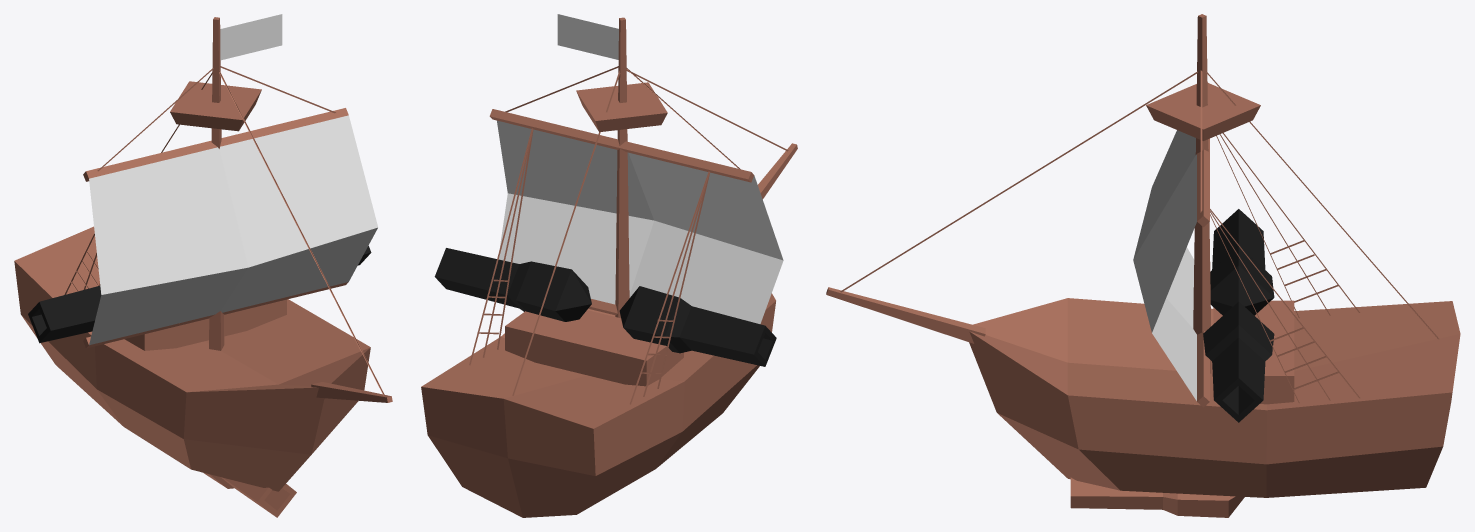
File: ship.gltf
3 views of the same model, side by side, from view 1: azimuth 30°, elevation 25°; view 2: azimuth 150°, elevation 25°; view 3: azimuth 270°, elevation 25° (orthographic). The views are drawn at different scales.
Visible parts, largest first — view 1: boat, cloth, cannon.001, ropes, cannon; view 2: boat, cloth, cannon.001, ropes; view 3: boat, cloth, cannon.001, ropes, cannon.
Boxes of the visible parts, x1,y1,x2,y2 form: boat: (14, 17, 392, 491); cloth: (89, 14, 378, 345); cannon.001: (28, 246, 371, 343); ropes: (64, 66, 384, 395); cannon: (204, 473, 296, 517); boat: (421, 17, 797, 517); cloth: (497, 14, 783, 323); cannon.001: (434, 248, 776, 366); ropes: (469, 66, 788, 404); boat: (826, 14, 1460, 497); cloth: (1133, 130, 1196, 400); cannon.001: (1203, 209, 1274, 422); ropes: (840, 70, 1438, 403); cannon: (1070, 477, 1244, 517).
Bounding box in the file's own units: 2.49 × 3.44 × 3.94.
